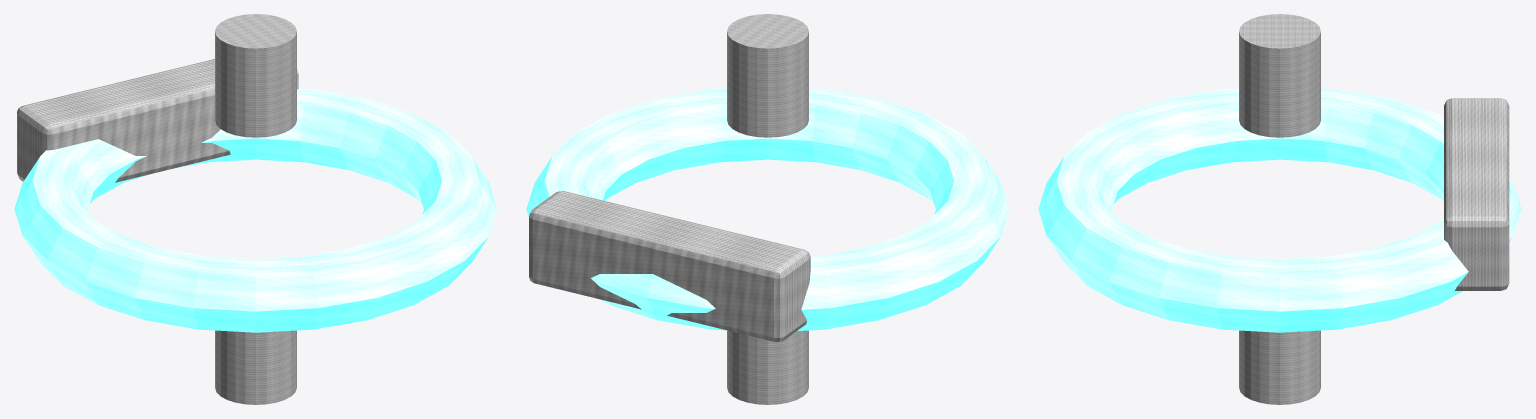
The model's file is item-wire_variant_d.glb.
The picture shows the model from 3 angles, left to right: view 1: azimuth 30°, elevation 25°; view 2: azimuth 150°, elevation 25°; view 3: azimuth 270°, elevation 25°; orthographic projection.
Parts seen in each view (by area): view 1: Coiled conductor, Variant modular rail, Coil end, Coil end.007; view 2: Coiled conductor, Variant modular rail, Coil end, Coil end.007; view 3: Coiled conductor, Variant modular rail, Coil end, Coil end.007.
Part boxes in pixels (x1,y1,x2,y2): Coiled conductor: (14,88,497,332); Variant modular rail: (17,59,298,182); Coil end: (215,14,296,137); Coil end.007: (215,330,296,404); Coiled conductor: (526,88,1009,330); Variant modular rail: (529,191,810,341); Coil end: (727,14,808,137); Coil end.007: (727,330,808,404); Coiled conductor: (1038,88,1521,332); Variant modular rail: (1444,98,1509,290); Coil end: (1239,14,1320,137); Coil end.007: (1239,330,1320,404).
Size of what is drawn, in the model's own units: 0.59 by 0.48 by 0.59.
3 materials, 3 textured.
